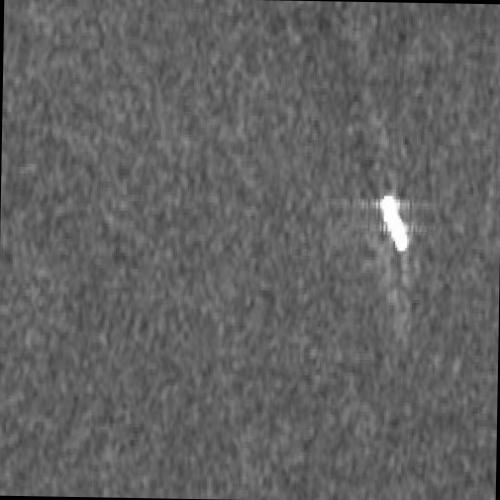ship: (379, 194, 409, 252)
